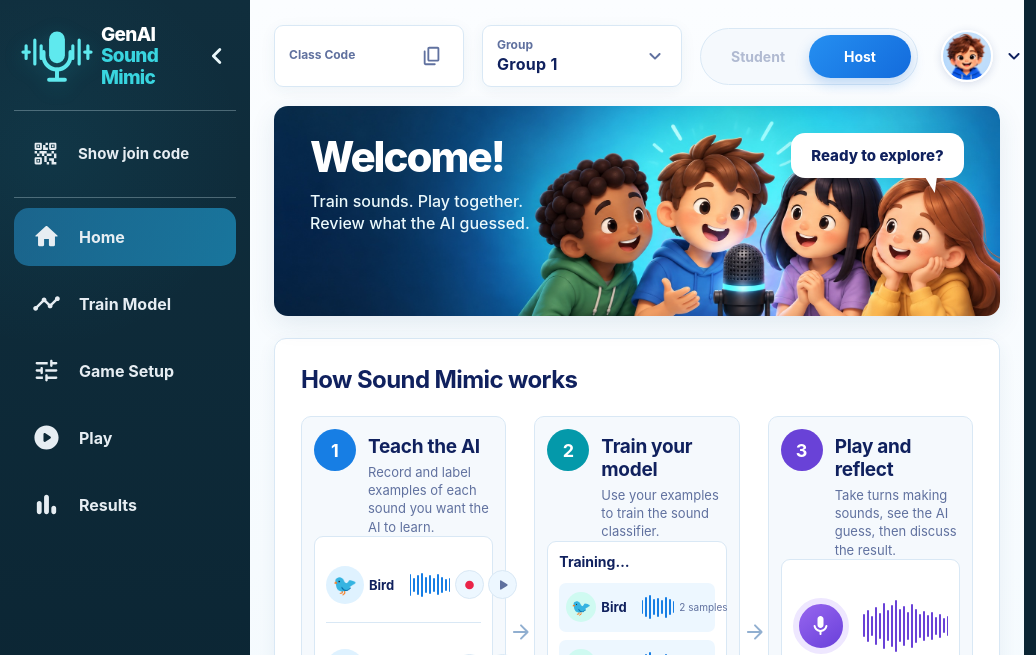
Test: sound mimic routes › opens the group menu and updates the selected group
Step 1. Click the button with aria-label "Group: Group 1" → (582, 56), box x1=497 y1=38 x2=667 y2=74
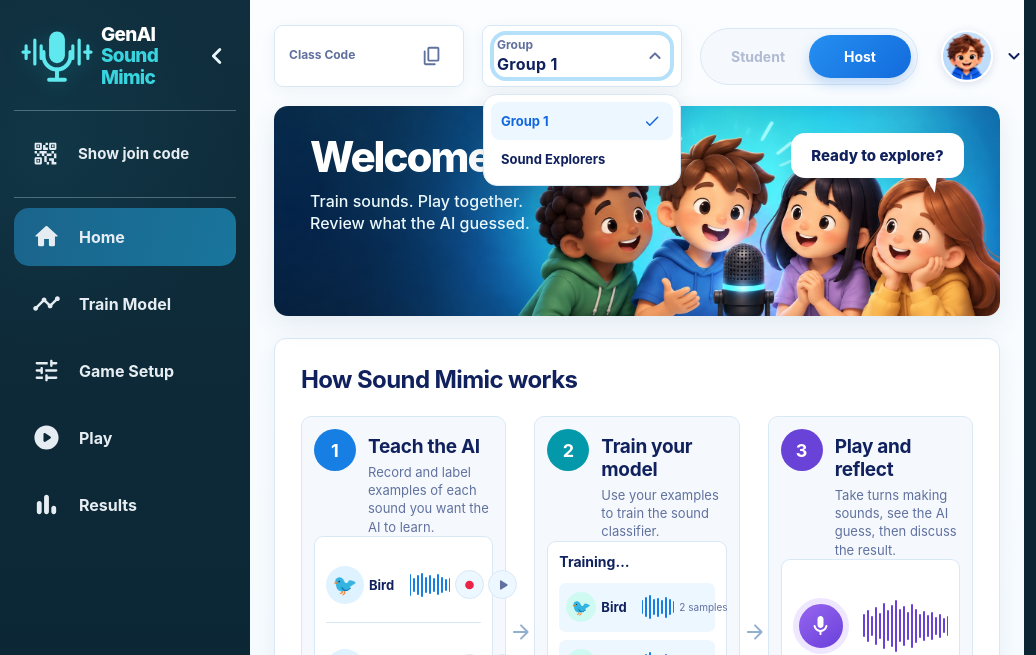
expect the list "Group" is shown: met, box x1=483 y1=94 x2=681 y2=186
expect the number of options is 2: met
Step 2. Click the option "Sound Explorers" → (582, 159), box x1=491 y1=140 x2=673 y2=178
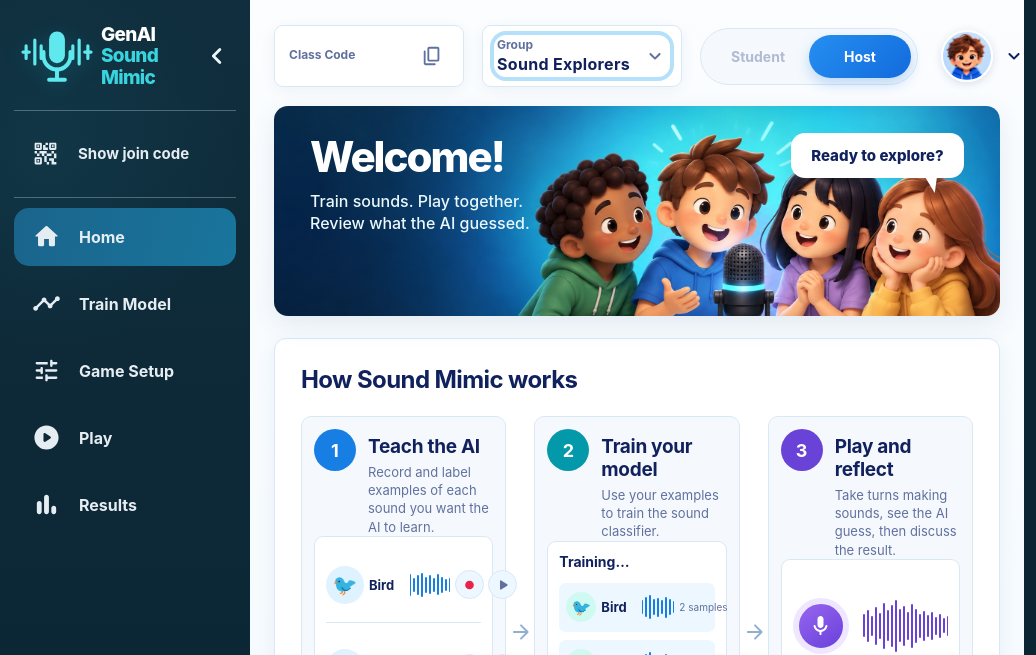
expect the button named "Group: Group 1" is collapsed: met, box x1=497 y1=38 x2=667 y2=74
